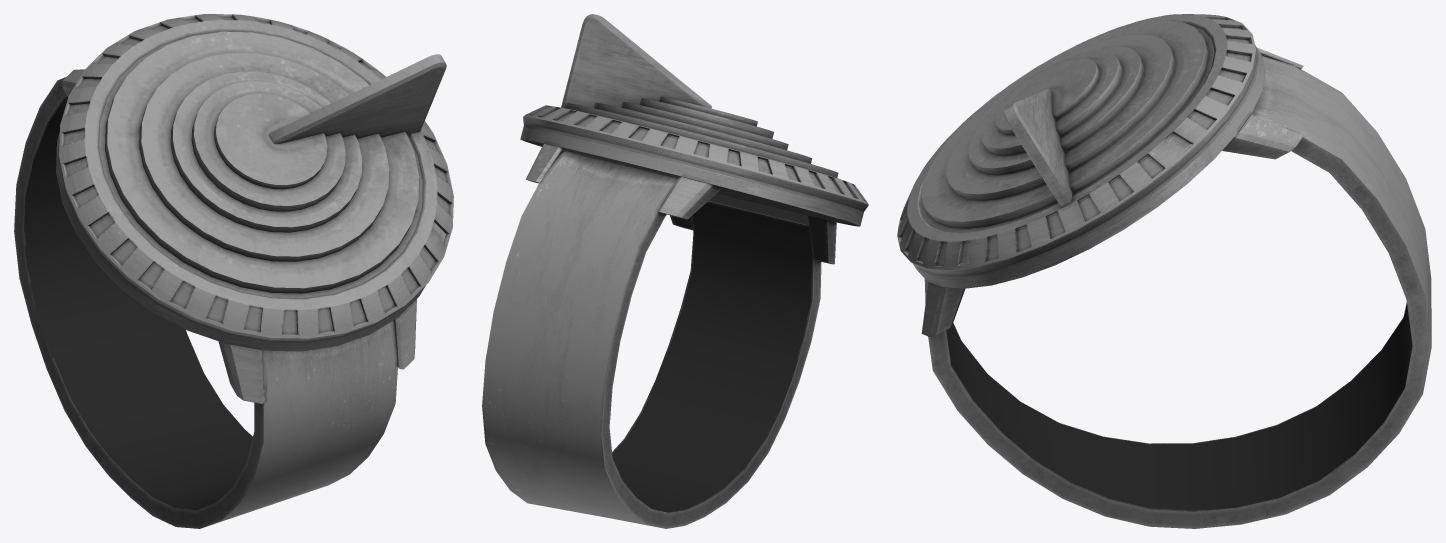
File: SM_Watch.fbx
3 renders of one model, left to right at view 1: azimuth 30°, elevation 25°; view 2: azimuth 150°, elevation 25°; view 3: azimuth 270°, elevation 25°, orthographic. The views are drawn at different scales.
Parts seen in each view (by area): view 1: SunDial, WatchBand; view 2: WatchBand, SunDial; view 3: SunDial, WatchBand.
Part boxes in pixels (x1=…): SunDial: x1=56, y1=14, x2=453, y2=403; WatchBand: x1=14, y1=77, x2=397, y2=528; WatchBand: x1=482, y1=148, x2=821, y2=528; SunDial: x1=520, y1=14, x2=868, y2=264; SunDial: x1=897, y1=14, x2=1303, y2=336; WatchBand: x1=924, y1=55, x2=1431, y2=528.
Size of the model in its own units: 7.56 by 9.33 by 9.77.
